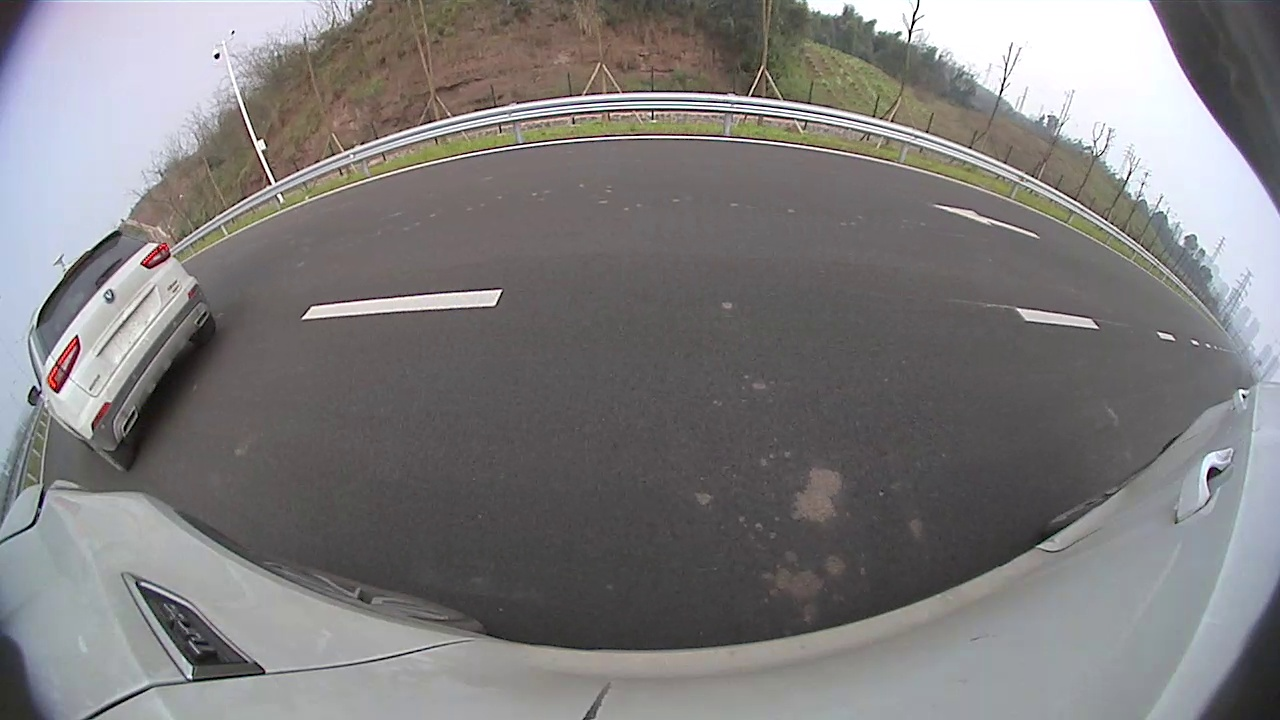car: (27, 230, 218, 473)
